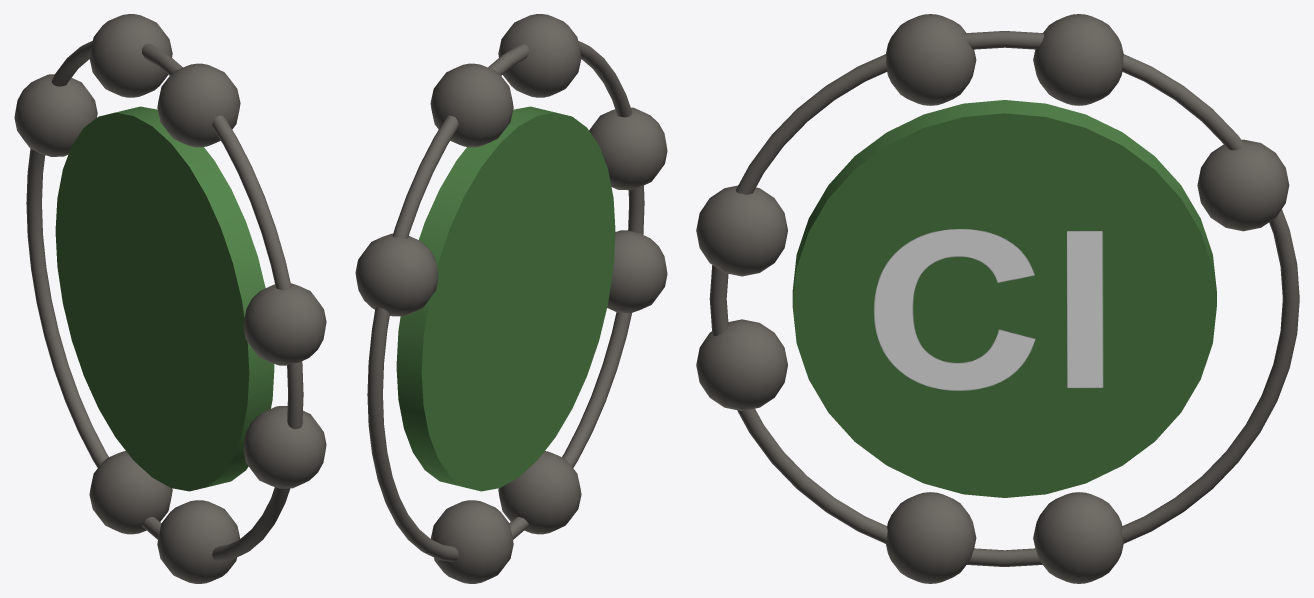
3 views of the same model, side by side, from view 1: azimuth 30°, elevation 25°; view 2: azimuth 150°, elevation 25°; view 3: azimuth 270°, elevation 25° (orthographic). The views are drawn at different scales.
Parts seen in each view (by area): view 1: m_cl, m_aro.004, m_ele.022, m_ele.016, m_ele.023, m_ele.018, m_ele.019, m_ele.024, m_ele.021; view 2: m_cl, m_aro.004, m_ele.024, m_ele.019, m_ele.021, m_ele.016, m_ele.018, m_ele.022, m_ele.023; view 3: m_cl, m_aro.004, m_ele.021, m_ele.018, m_ele.019, m_ele.016, m_ele.023, m_ele.024, m_ele.022.
Part boxes in pixels (bbox=[...]): m_cl: bbox=[55, 106, 274, 491]; m_aro.004: bbox=[26, 41, 303, 561]; m_ele.022: bbox=[243, 283, 326, 365]; m_ele.016: bbox=[157, 63, 240, 147]; m_ele.023: bbox=[243, 406, 326, 488]; m_ele.018: bbox=[157, 500, 240, 583]; m_ele.019: bbox=[89, 14, 172, 97]; m_ele.024: bbox=[14, 74, 97, 156]; m_ele.021: bbox=[89, 451, 172, 534]; m_cl: bbox=[396, 106, 615, 491]; m_aro.004: bbox=[367, 41, 644, 561]; m_ele.024: bbox=[355, 233, 438, 316]; m_ele.019: bbox=[430, 63, 513, 147]; m_ele.021: bbox=[430, 500, 513, 583]; m_ele.016: bbox=[498, 14, 581, 97]; m_ele.018: bbox=[498, 451, 581, 534]; m_ele.022: bbox=[589, 107, 667, 190]; m_ele.023: bbox=[607, 230, 667, 313]; m_cl: bbox=[792, 100, 1216, 497]; m_aro.004: bbox=[709, 31, 1299, 566]; m_ele.021: bbox=[1033, 492, 1123, 583]; m_ele.018: bbox=[886, 492, 976, 583]; m_ele.019: bbox=[1033, 14, 1123, 105]; m_ele.016: bbox=[885, 14, 976, 105]; m_ele.023: bbox=[696, 319, 787, 410]; m_ele.024: bbox=[1197, 139, 1289, 231]; m_ele.022: bbox=[696, 185, 787, 276].
Size of the model in its own units: 43.32 by 292 by 284.
